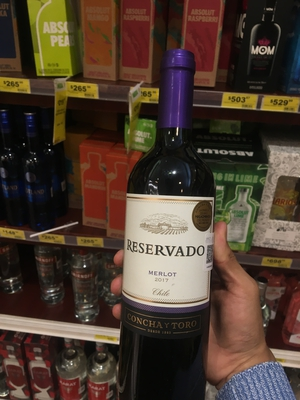reservado merlot: (106, 56, 228, 400)
